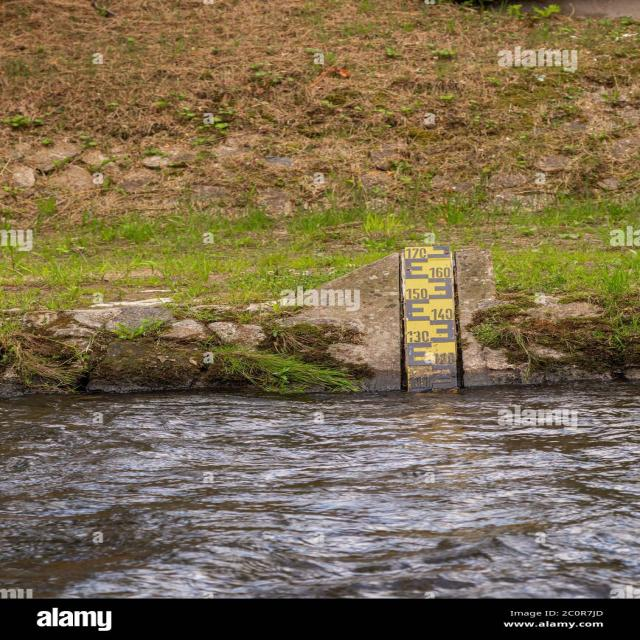ruler: (392, 243, 466, 403)
value: (406, 330, 433, 346), (405, 374, 432, 390), (434, 352, 459, 368), (403, 287, 431, 301), (428, 266, 453, 281), (403, 246, 428, 260), (432, 308, 456, 322)
